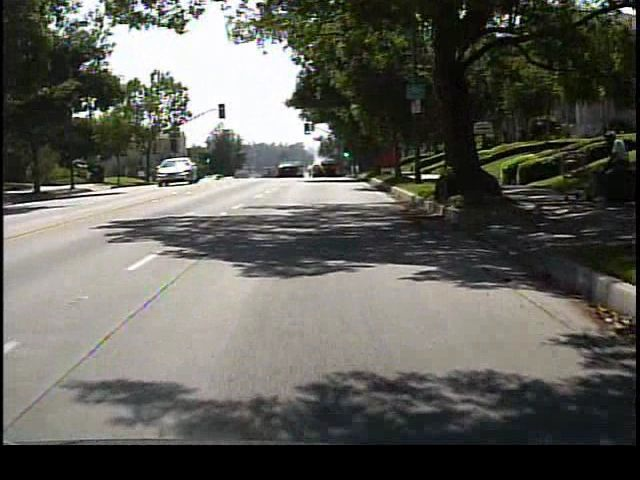person: (594, 127, 631, 216)
